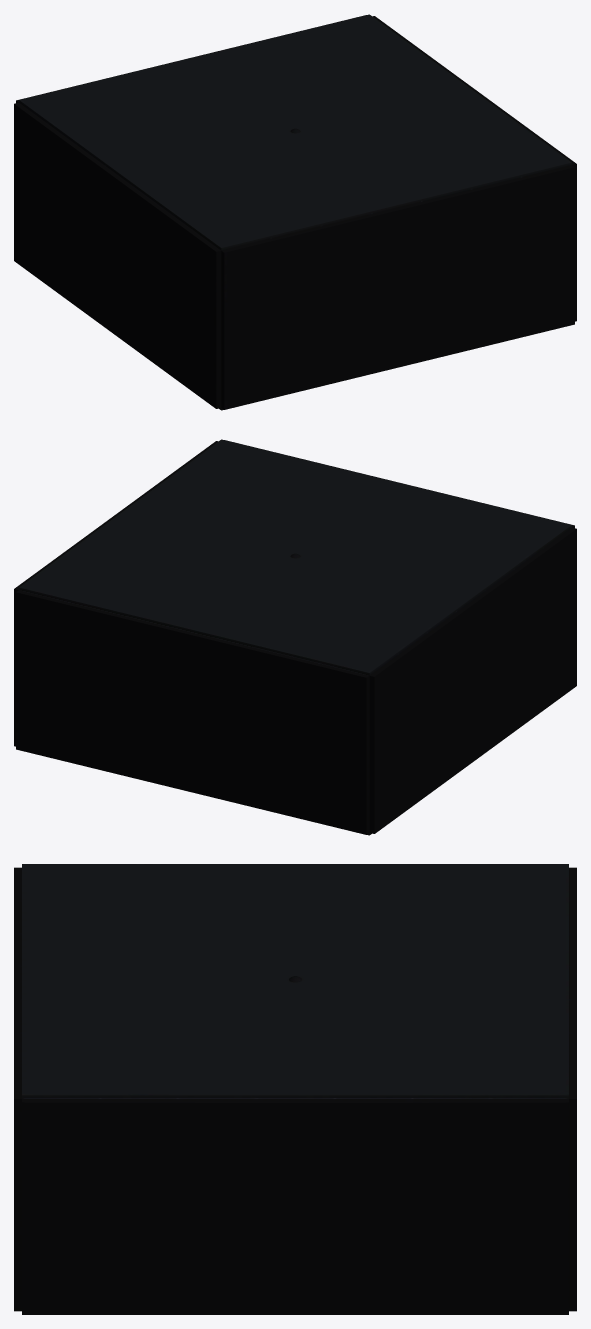
File: theatre-room.glb
The picture shows the model from 3 angles, top to bottom: view 1: azimuth 30°, elevation 25°; view 2: azimuth 150°, elevation 25°; view 3: azimuth 270°, elevation 25°; orthographic projection. The views are drawn at different scales.
Visible parts, largest first — view 1: Room_Baked; view 2: Room_Baked; view 3: Room_Baked.
Part boxes in pixels (box(x1,y1,x2,y2)): Room_Baked: box(14, 14, 576, 410); Room_Baked: box(14, 439, 576, 835); Room_Baked: box(14, 864, 576, 1314).
Bounding box in the file's own units: 7.2 × 3.14 × 7.2.
Materials: 7 (3 with a texture image).
